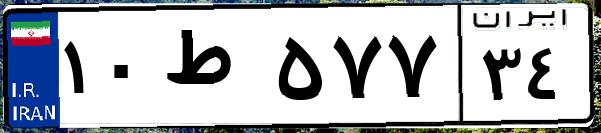0: (110, 28, 158, 98)
1: (57, 26, 110, 100)
3: (475, 38, 525, 113)
4: (525, 38, 570, 115)
5: (270, 28, 330, 110)
7: (385, 28, 445, 110), (330, 28, 385, 110)
ط: (158, 20, 270, 120)
